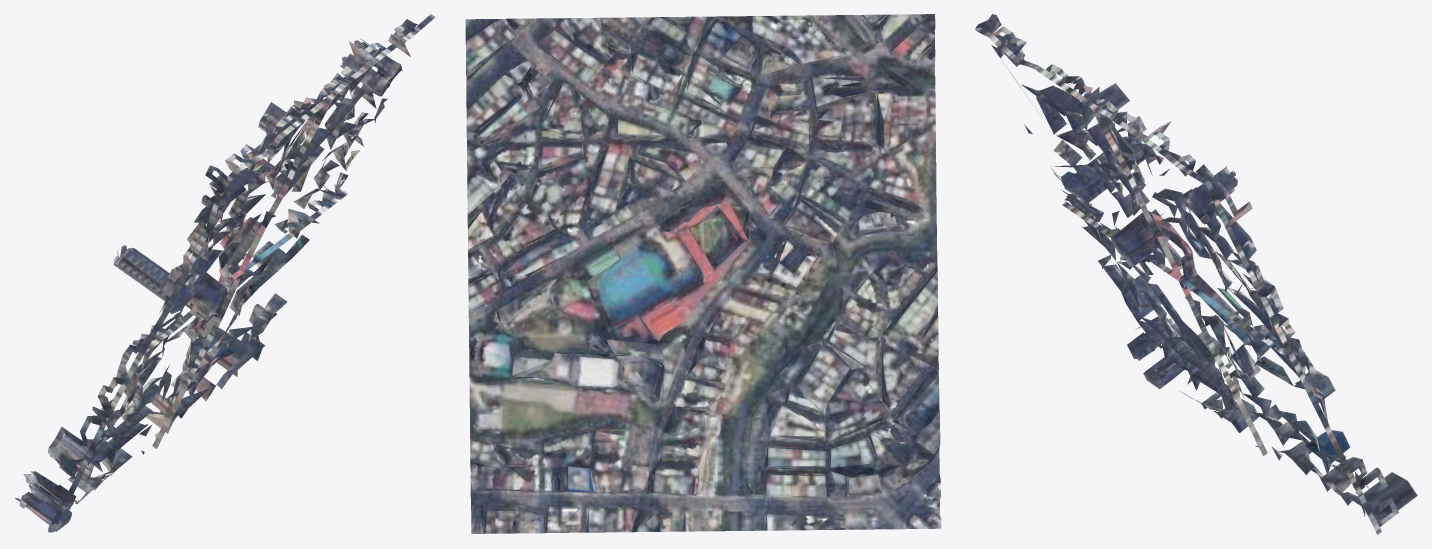
3 views of the same model, side by side, from view 1: azimuth 30°, elevation 25°; view 2: azimuth 150°, elevation 25°; view 3: azimuth 270°, elevation 25° (orthographic). The views are drawn at different scales.
Size of the model in its own units: 634 by 577 by 563.
1 material, 1 textured.
